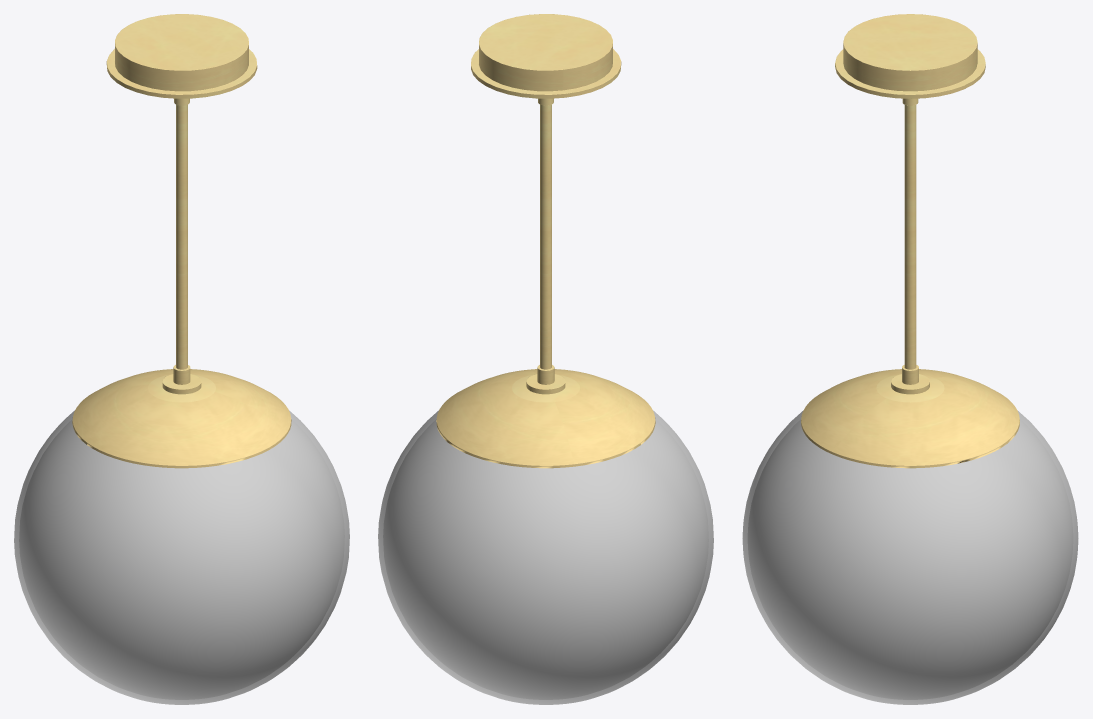
Rendered from wac-honeymooner-pendant.glb.
3 views of the same model, side by side, from view 1: azimuth 30°, elevation 25°; view 2: azimuth 150°, elevation 25°; view 3: azimuth 270°, elevation 25° (orthographic).
Visible parts, largest first — view 1: light-cover, henging-stand; view 2: light-cover, henging-stand; view 3: light-cover, henging-stand.
Boxes of the visible parts, x1,y1,x2,y2 form: light-cover: (14,410,349,704); henging-stand: (72,14,291,468); light-cover: (378,410,713,704); henging-stand: (436,14,655,468); light-cover: (742,411,1078,704); henging-stand: (801,14,1019,468).
Bounding box in the file's own units: 0.3454 × 0.7338 × 0.3454.
2 materials, 1 textured.
